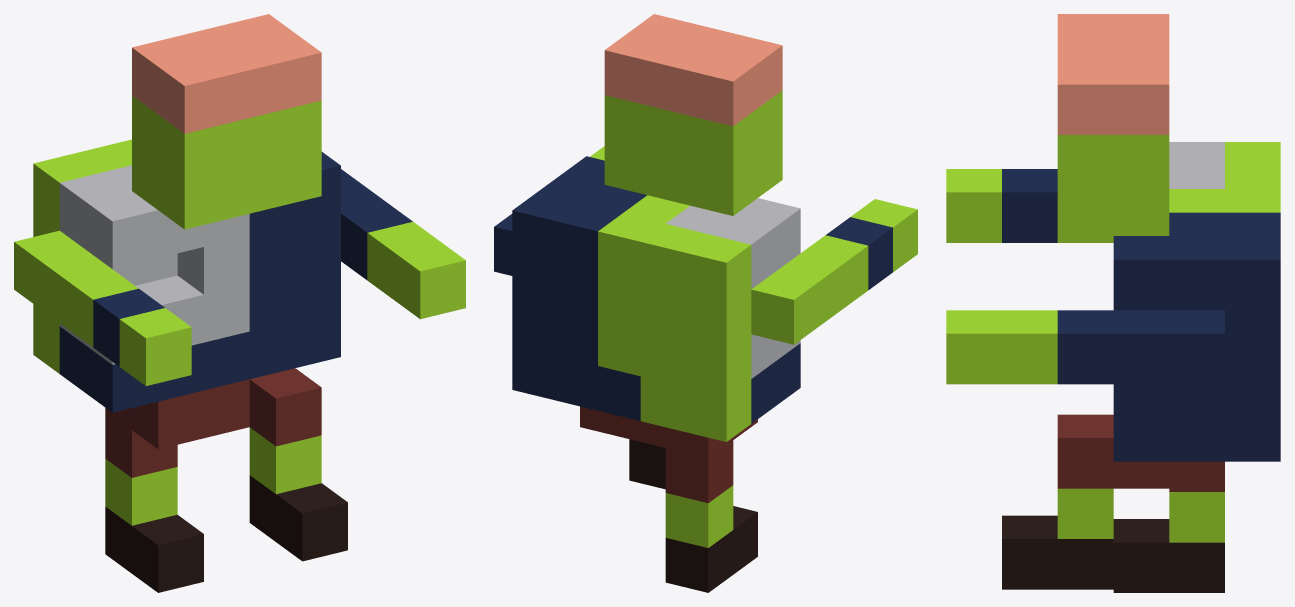
File: zombie_walk_1.obj
The picture shows the model from 3 angles, left to right: view 1: azimuth 30°, elevation 25°; view 2: azimuth 150°, elevation 25°; view 3: azimuth 270°, elevation 25°; orthographic projection. The views are drawn at different scales.
Bounding box in the file's own units: 0.7 × 1.1 × 0.6.
Materials: 1 (1 with a texture image).
